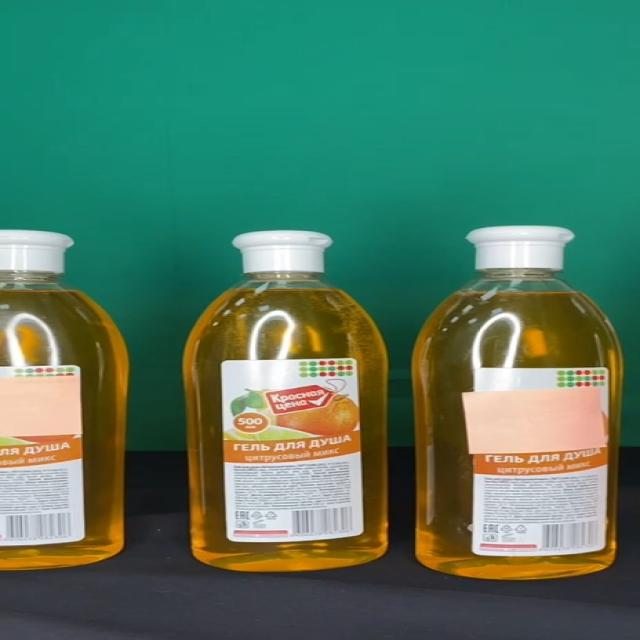Bottle: (409, 226, 622, 579), (186, 229, 386, 572)
Cap: (466, 227, 574, 270), (230, 230, 333, 272)
